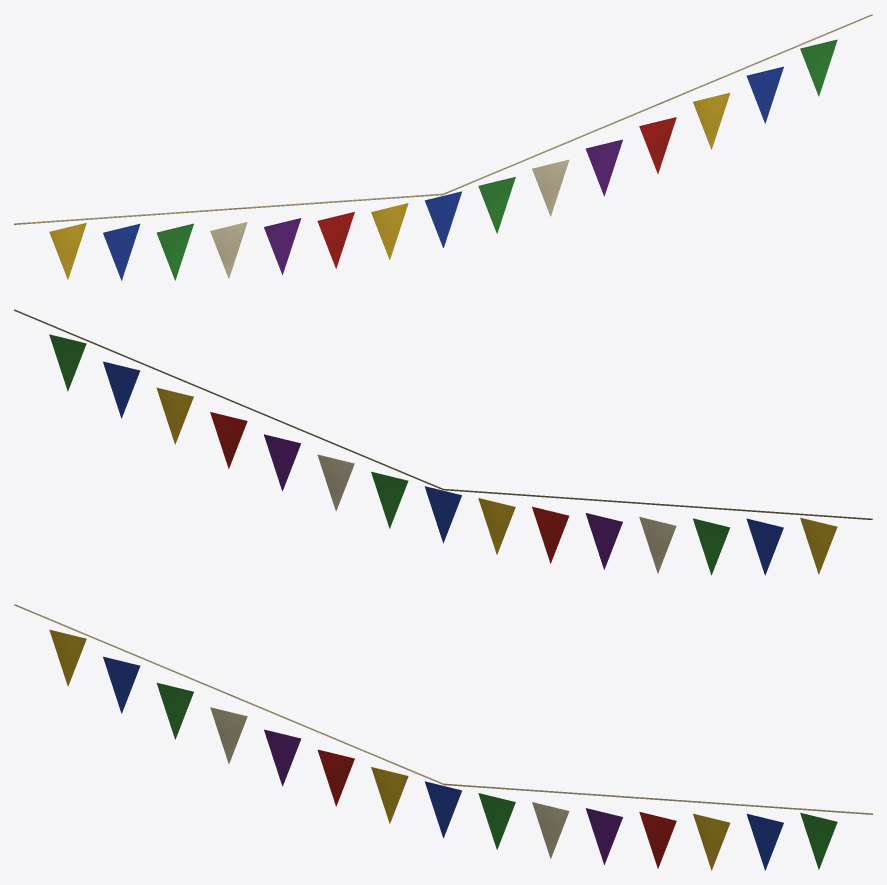
File: pennant_line.obj
3 renders of one model, top to bottom at view 1: azimuth 30°, elevation 25°; view 2: azimuth 150°, elevation 25°; view 3: azimuth 330°, elevation 25°, orthographic.
Visible parts, largest first — view 1: pennant_line; view 2: pennant_line; view 3: pennant_line.
Boxes of the visible parts, box(x1,y1,x2,y2) form: pennant_line: box(14, 14, 872, 280); pennant_line: box(14, 309, 872, 575); pennant_line: box(14, 604, 872, 870).
Bounding box in the file's own units: 6 × 0.8651 × 0.009.
Materials: 1 (1 with a texture image).
